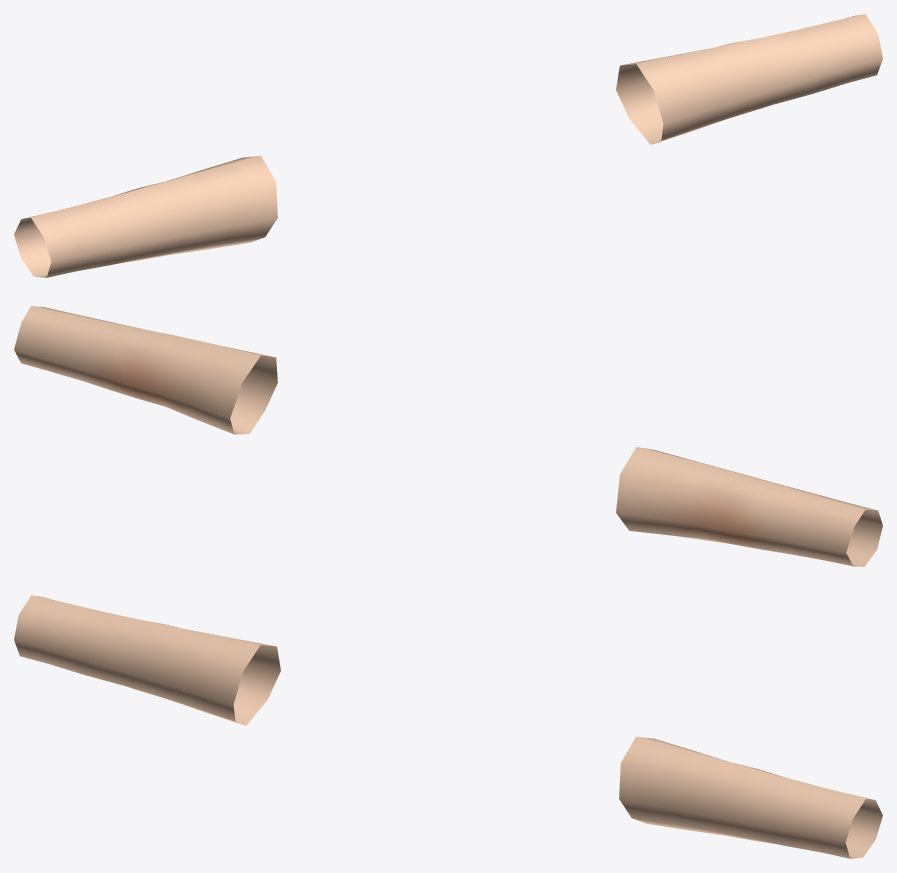
File: Body_ArmA_2.fbx
3 views of the same model, one above another, from view 1: azimuth 30°, elevation 25°; view 2: azimuth 150°, elevation 25°; view 3: azimuth 330°, elevation 25° (orthographic).
Visible parts, largest first — view 1: Body_ArmA_2; view 2: Body_ArmA_2; view 3: Body_ArmA_2.
Part boxes in pixels (x1,y1,x2,y2): Body_ArmA_2: (14, 14, 882, 277); Body_ArmA_2: (14, 306, 882, 566); Body_ArmA_2: (14, 595, 882, 858).
Bounding box in the file's own units: 95.86 × 9.1 × 9.47.
